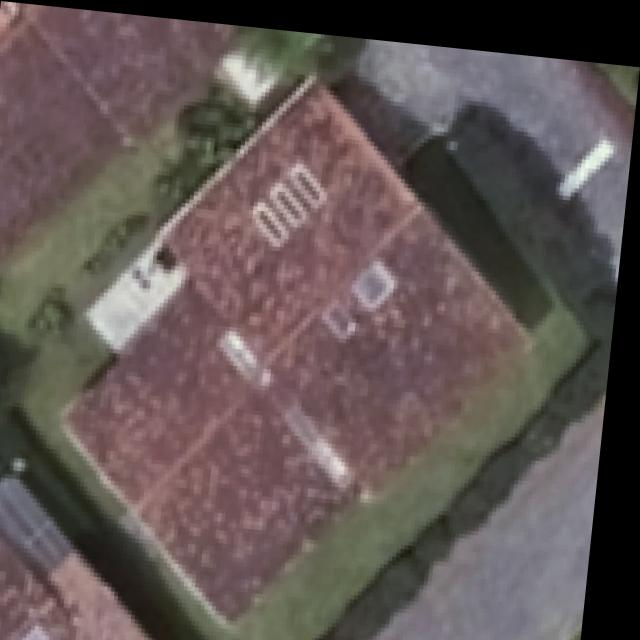Batiment: (76, 76, 529, 609), (0, 1, 231, 265), (0, 517, 85, 640)
